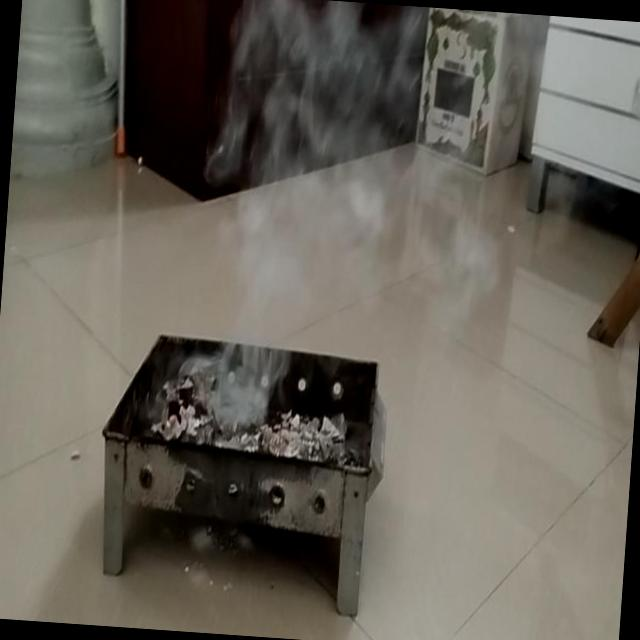smoke: (208, 25, 421, 398)
